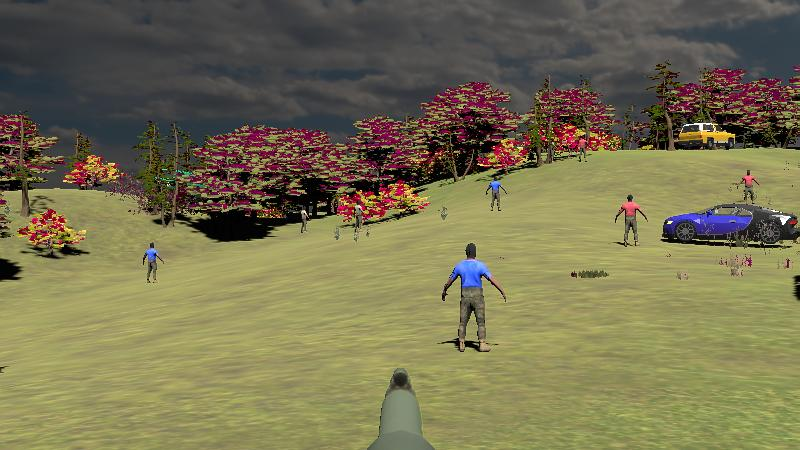Human: (441, 242, 506, 353), (615, 192, 648, 248), (142, 242, 164, 284), (738, 169, 760, 206), (486, 175, 507, 213)
car: (662, 201, 800, 246), (675, 121, 734, 151), (675, 122, 735, 151)
